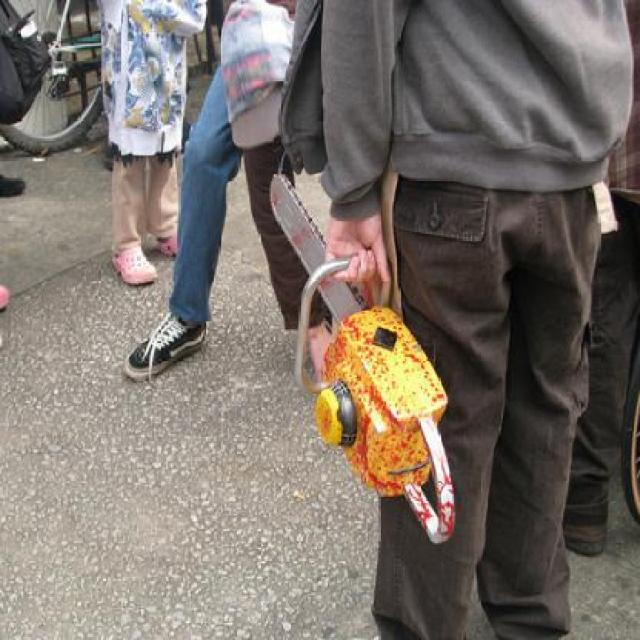Chainsaw: (269, 170, 465, 548)
